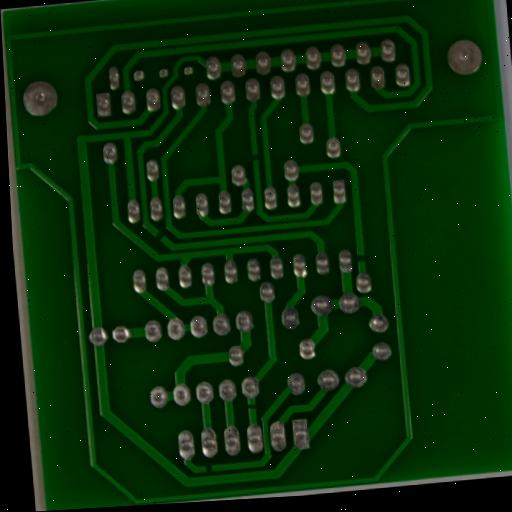open_circuit: (353, 249, 369, 268), (151, 227, 166, 244), (201, 461, 215, 476), (248, 150, 261, 165), (244, 400, 258, 413)
